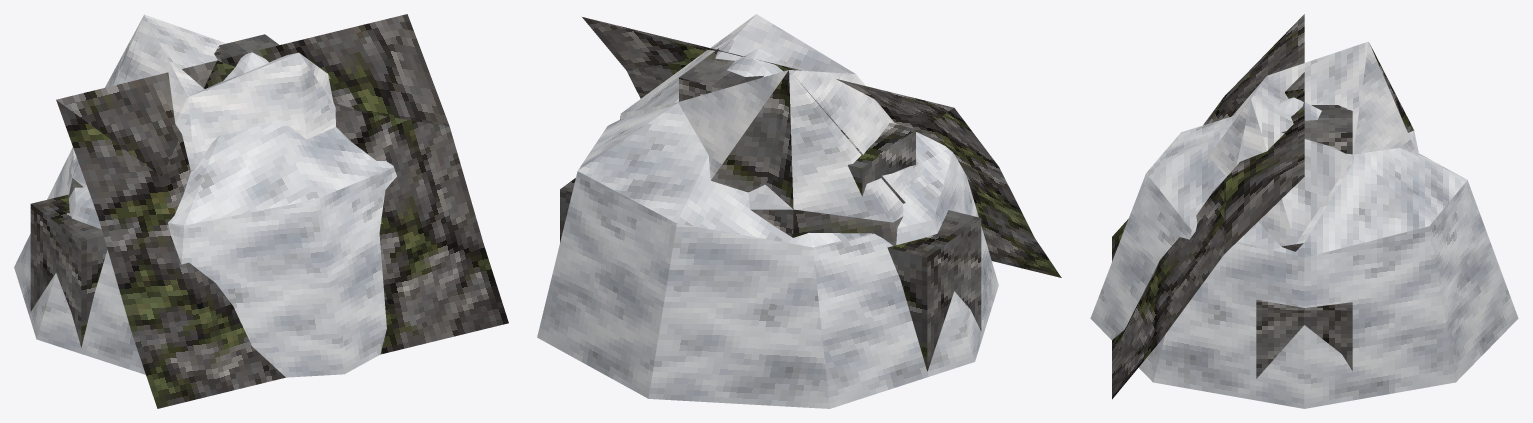
The model's file is snow_v1_kit.glb.
The picture shows the model from 3 angles, left to right: view 1: azimuth 30°, elevation 25°; view 2: azimuth 150°, elevation 25°; view 3: azimuth 270°, elevation 25°; orthographic projection. The views are drawn at different scales.
Visible parts, largest first — view 1: snow_face, snow_bank, snow_cap_a, snow_ruin, snow_cap_b; view 2: snow_bank, snow_face, snow_ruin, snow_cap_b, snow_cap_a, snow_rock_b, snow_rock_a; view 3: snow_bank, snow_face, snow_cap_a, snow_ruin, snow_rock_b.
Boxes of the visible parts, left/top/right/bottom form: snow_face: left=56, top=14, right=508, bottom=408; snow_bank: left=14, top=52, right=396, bottom=377; snow_cap_a: left=124, top=14, right=335, bottom=143; snow_ruin: left=30, top=34, right=279, bottom=347; snow_cap_b: left=72, top=15, right=323, bottom=187; snow_bank: left=537, top=48, right=998, bottom=408; snow_face: left=582, top=17, right=1061, bottom=277; snow_ruin: left=560, top=48, right=981, bottom=371; snow_cap_b: left=669, top=70, right=924, bottom=222; snow_cap_a: left=620, top=14, right=905, bottom=202; snow_rock_b: left=750, top=71, right=902, bottom=245; snow_rock_a: left=620, top=70, right=905, bottom=203; snow_bank: left=1090, top=97, right=1518, bottom=408; snow_face: left=1112, top=14, right=1304, bottom=399; snow_cap_a: left=1209, top=41, right=1417, bottom=246; snow_ruin: left=1256, top=105, right=1352, bottom=378; snow_rock_b: left=1369, top=43, right=1413, bottom=132.
Bounding box in the file's own units: 80 × 52 × 80.
Materials: 4 (4 with a texture image).
